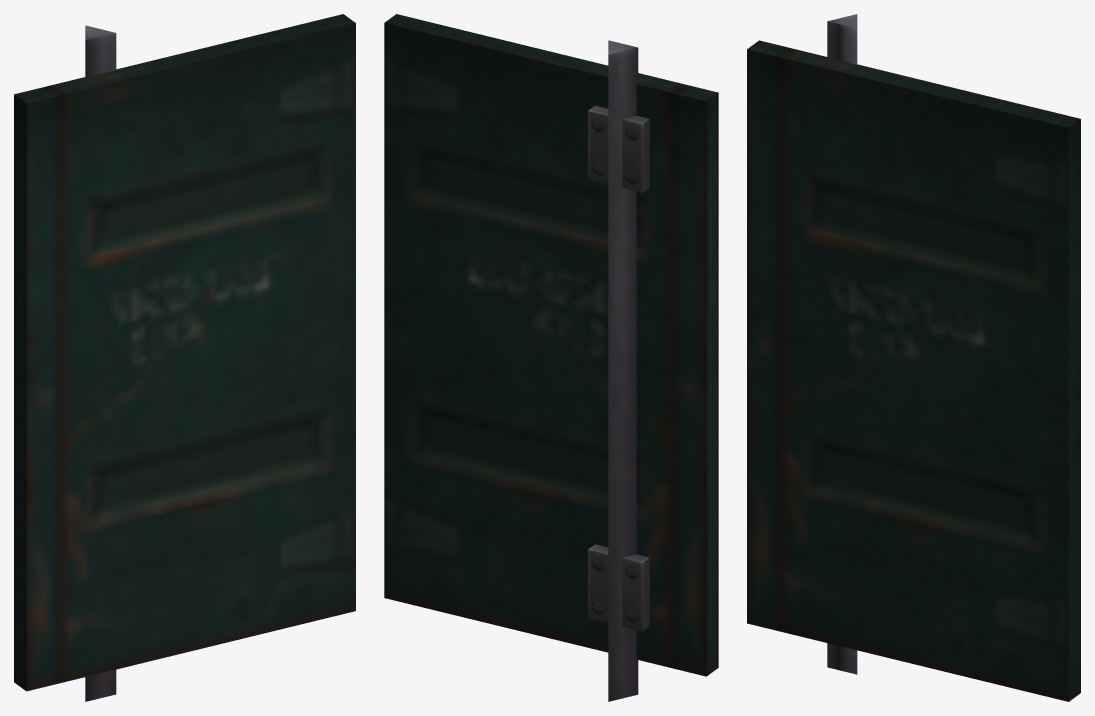
The model's file is Stage-gongchang-jizhuangxiang52.FBX.
3 renders of one model, left to right at view 1: azimuth 30°, elevation 25°; view 2: azimuth 150°, elevation 25°; view 3: azimuth 330°, elevation 25°, orthographic. The views are drawn at different scales.
Parts seen in each view (by area): view 1: Object69; view 2: Object69; view 3: Object69.
Part boxes in pixels (left/top/right/bottom): Object69: left=14, top=14, right=355, bottom=701; Object69: left=384, top=14, right=718, bottom=701; Object69: left=747, top=14, right=1080, bottom=701.
Size of the model in its own units: 1.68 by 0.2384 by 3.22.
